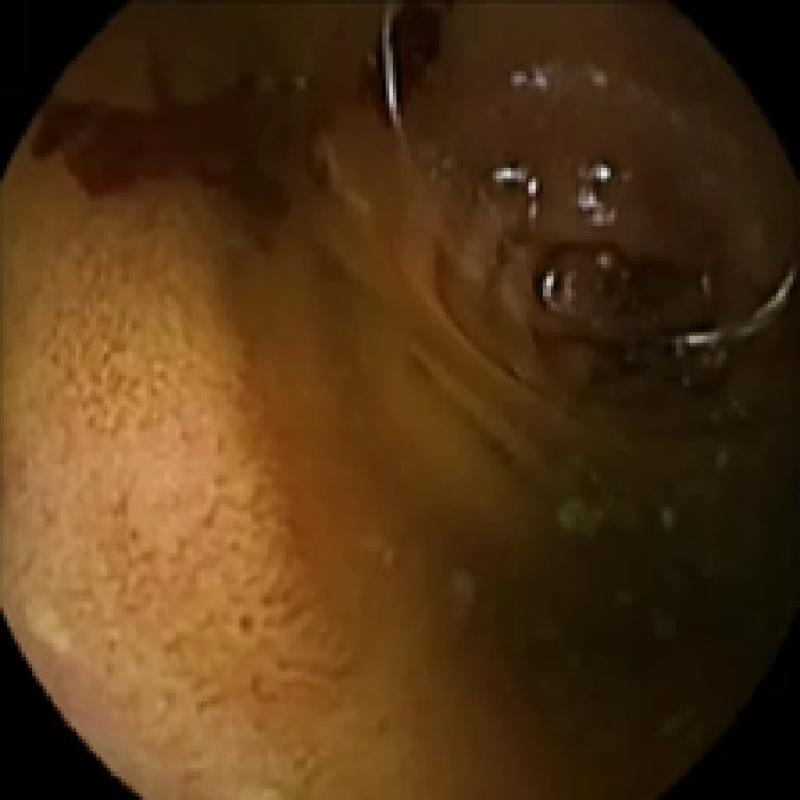bleeding: (28, 30, 330, 240), (482, 226, 722, 324), (367, 0, 432, 114)
